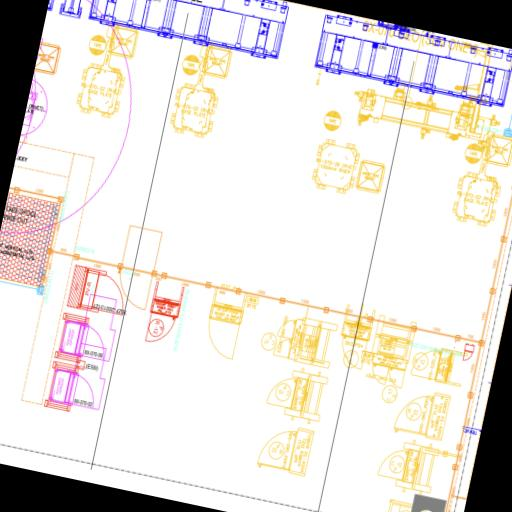robot: (163, 36, 232, 146), (70, 18, 139, 124), (445, 127, 512, 232)
